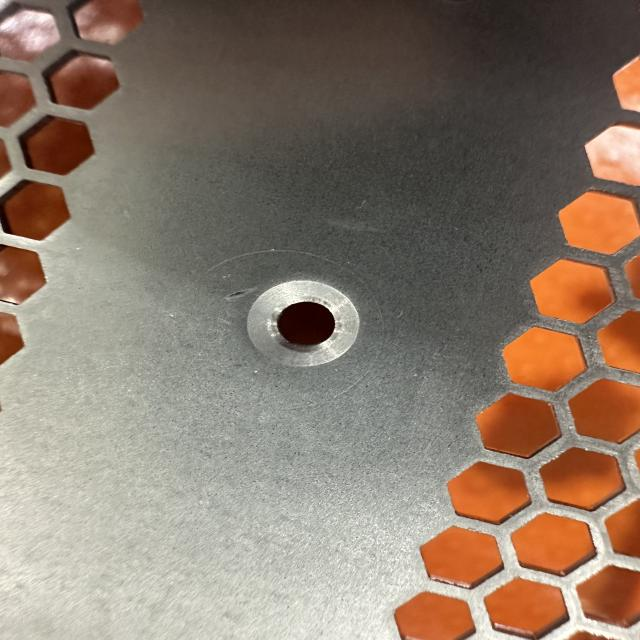Missing screw: (233, 270, 374, 376)
